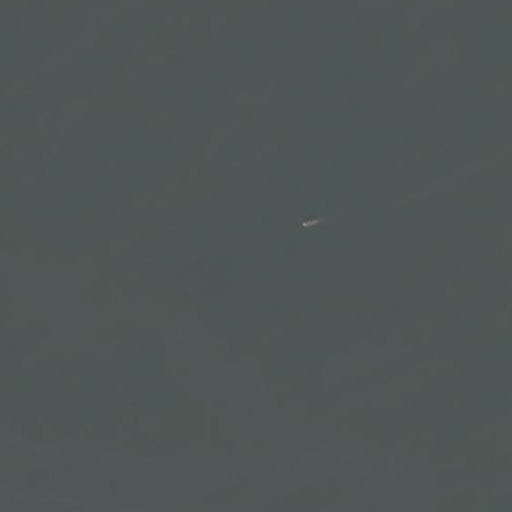ship: (299, 217, 323, 230)
